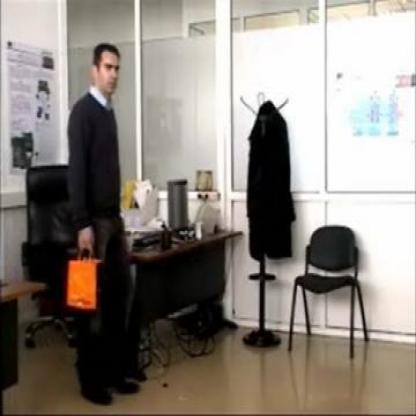other: (65, 251, 97, 310)
